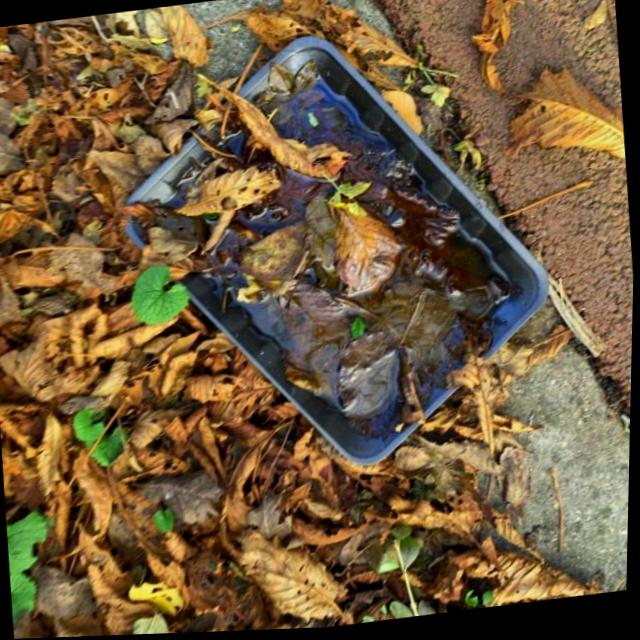Plastic: (98, 6, 573, 502)
